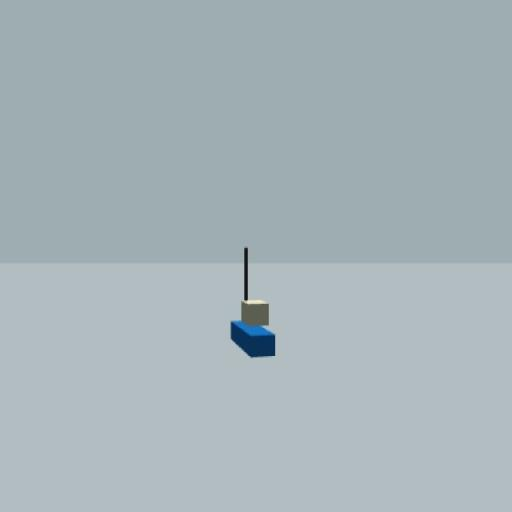fishing_boat: (229, 245, 279, 365)
